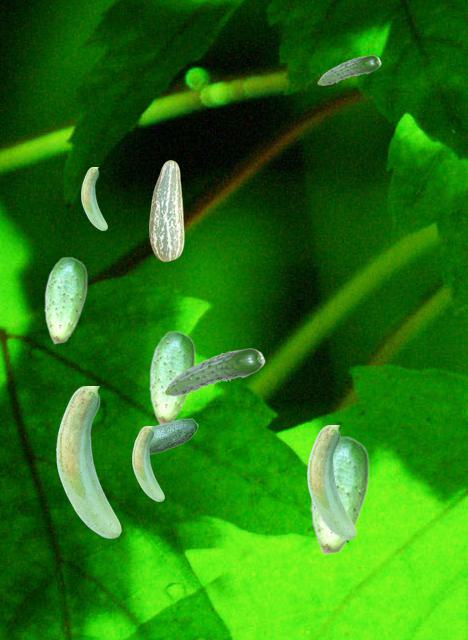cucumber: (56, 386, 120, 537), (310, 435, 368, 554), (307, 425, 355, 538), (164, 348, 264, 395), (149, 330, 194, 424), (44, 256, 86, 343), (149, 160, 183, 260), (132, 426, 163, 500), (134, 418, 197, 453), (317, 55, 380, 84), (81, 167, 106, 229)
